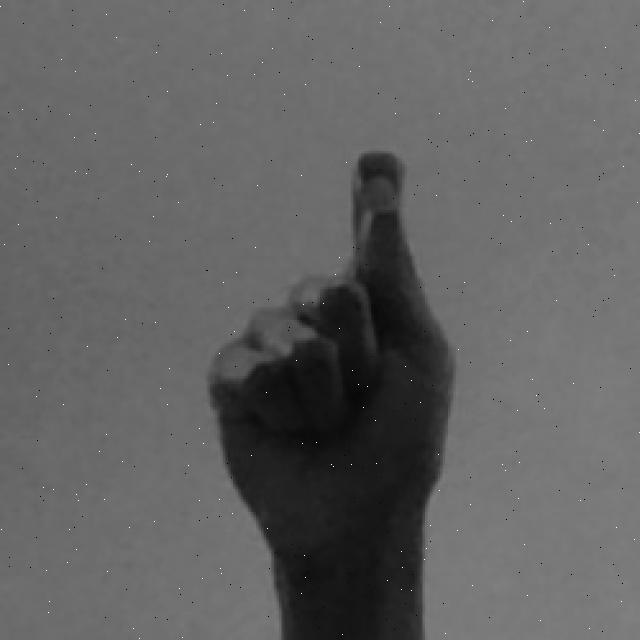T: (200, 146, 458, 640)
